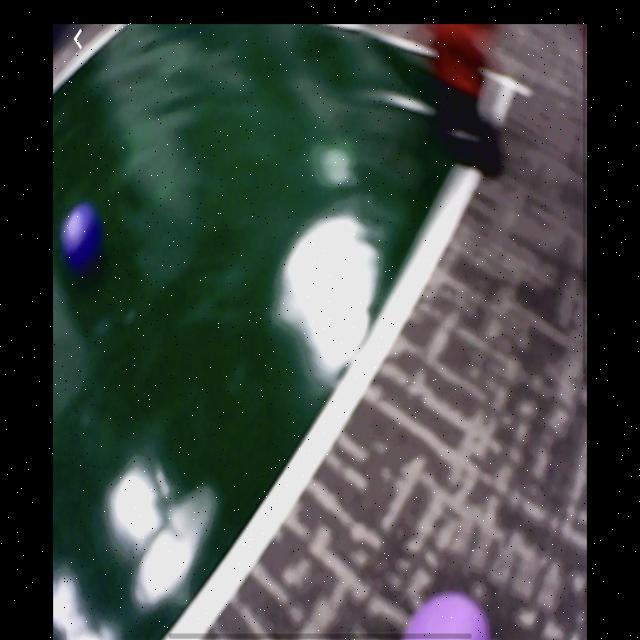ball: (395, 590, 497, 638), (60, 202, 106, 271)
